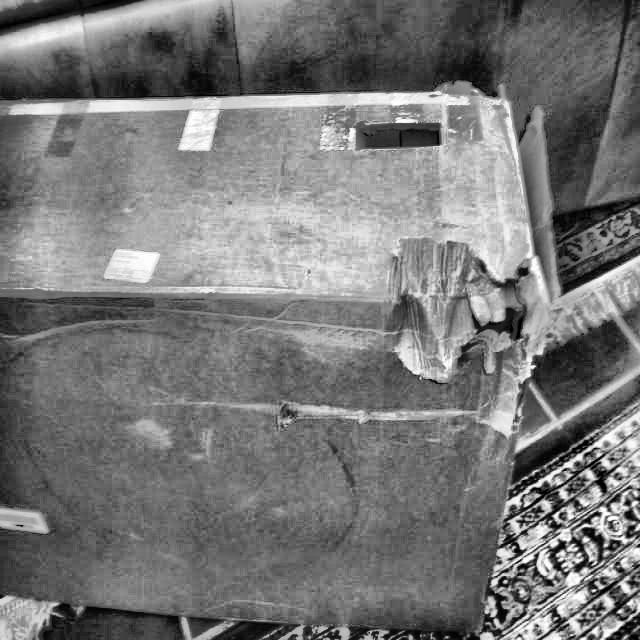box: (0, 77, 574, 639)
hole: (404, 248, 540, 400), (328, 114, 487, 168)
